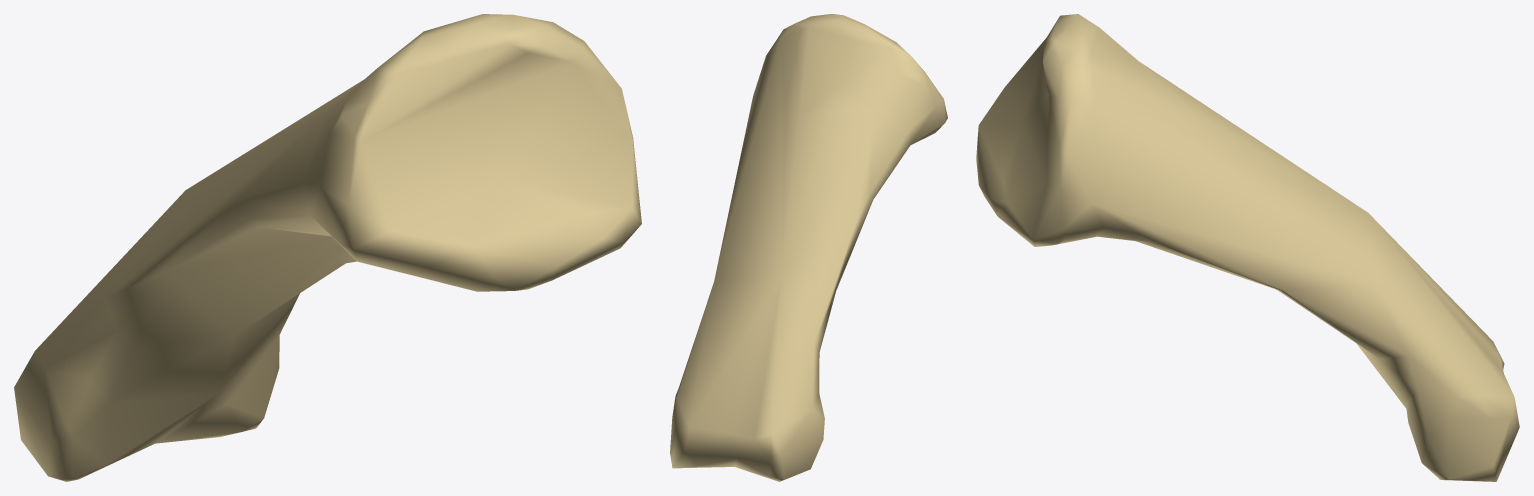
3 views of the same model, side by side, from view 1: azimuth 30°, elevation 25°; view 2: azimuth 150°, elevation 25°; view 3: azimuth 270°, elevation 25° (orthographic). The views are drawn at different scales.
Visible parts, largest first — view 1: 右侧第三指中节指骨; view 2: 右侧第三指中节指骨; view 3: 右侧第三指中节指骨.
Part boxes in pixels (x1,y1,x2,y2): 右侧第三指中节指骨: [14, 14, 641, 481]; 右侧第三指中节指骨: [670, 14, 947, 481]; 右侧第三指中节指骨: [976, 14, 1519, 481].
Bounding box in the file's own units: 0.0209 × 0.0351 × 0.0387.
